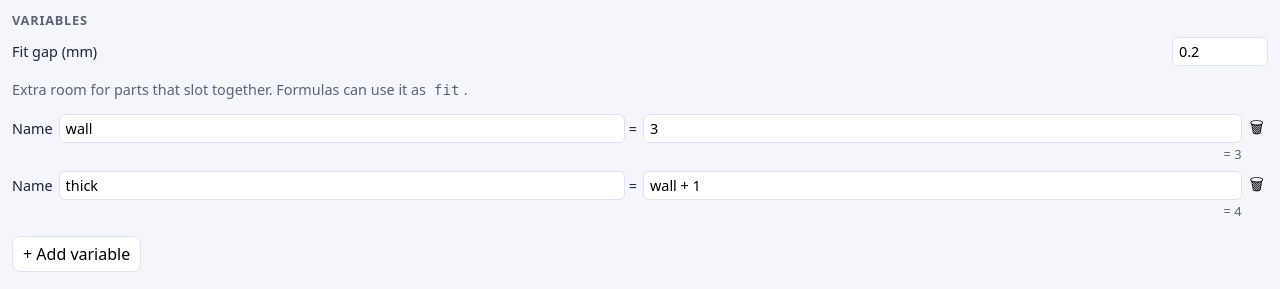
Test case: VariablesPanel › deleting a variable shows the problem on variables that used it
Click the button with test id "var-delete-wall". click: (1257, 129)
box: [1246, 114, 1268, 145]
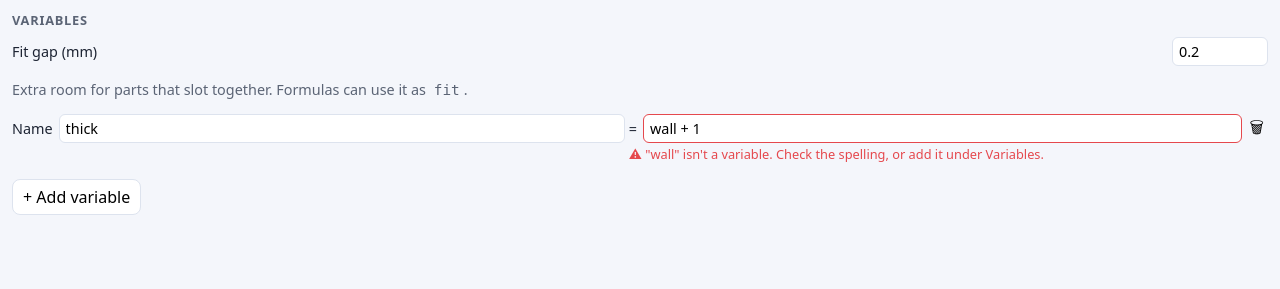
Now the text with test id "var-expr-thick-error" shows "\"wall\" isn't a variable", box [645, 145, 1044, 163]
